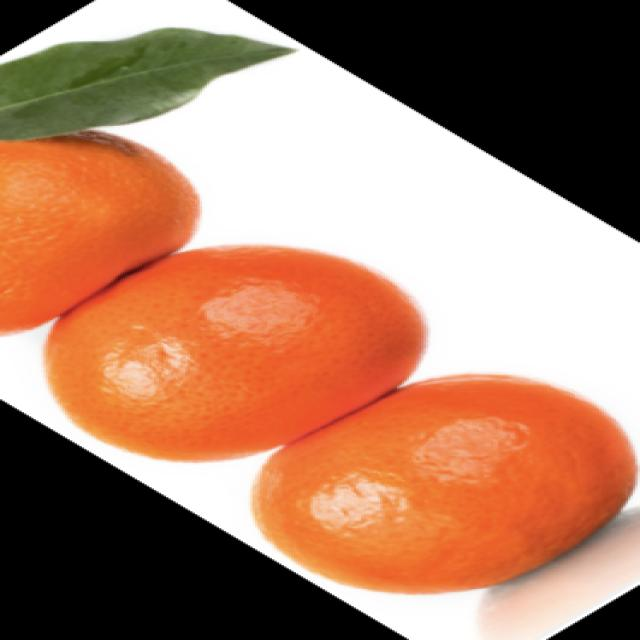orange: (241, 357, 640, 610), (35, 230, 439, 468), (0, 105, 183, 336)
